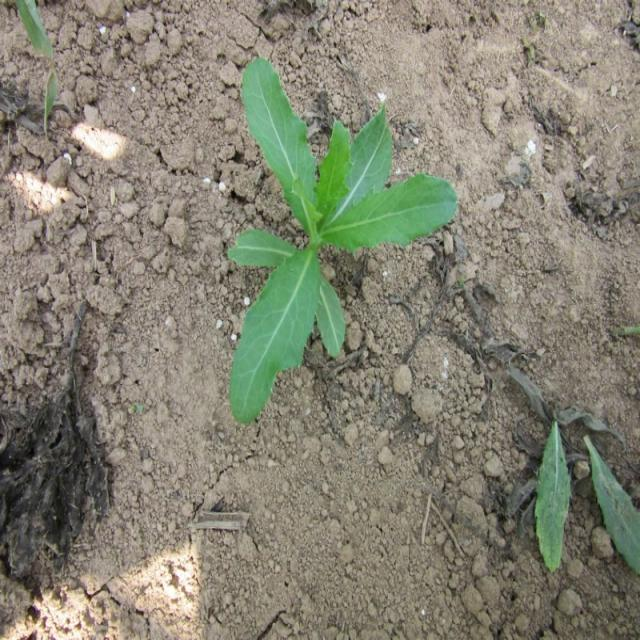cs: (222, 50, 464, 431)
